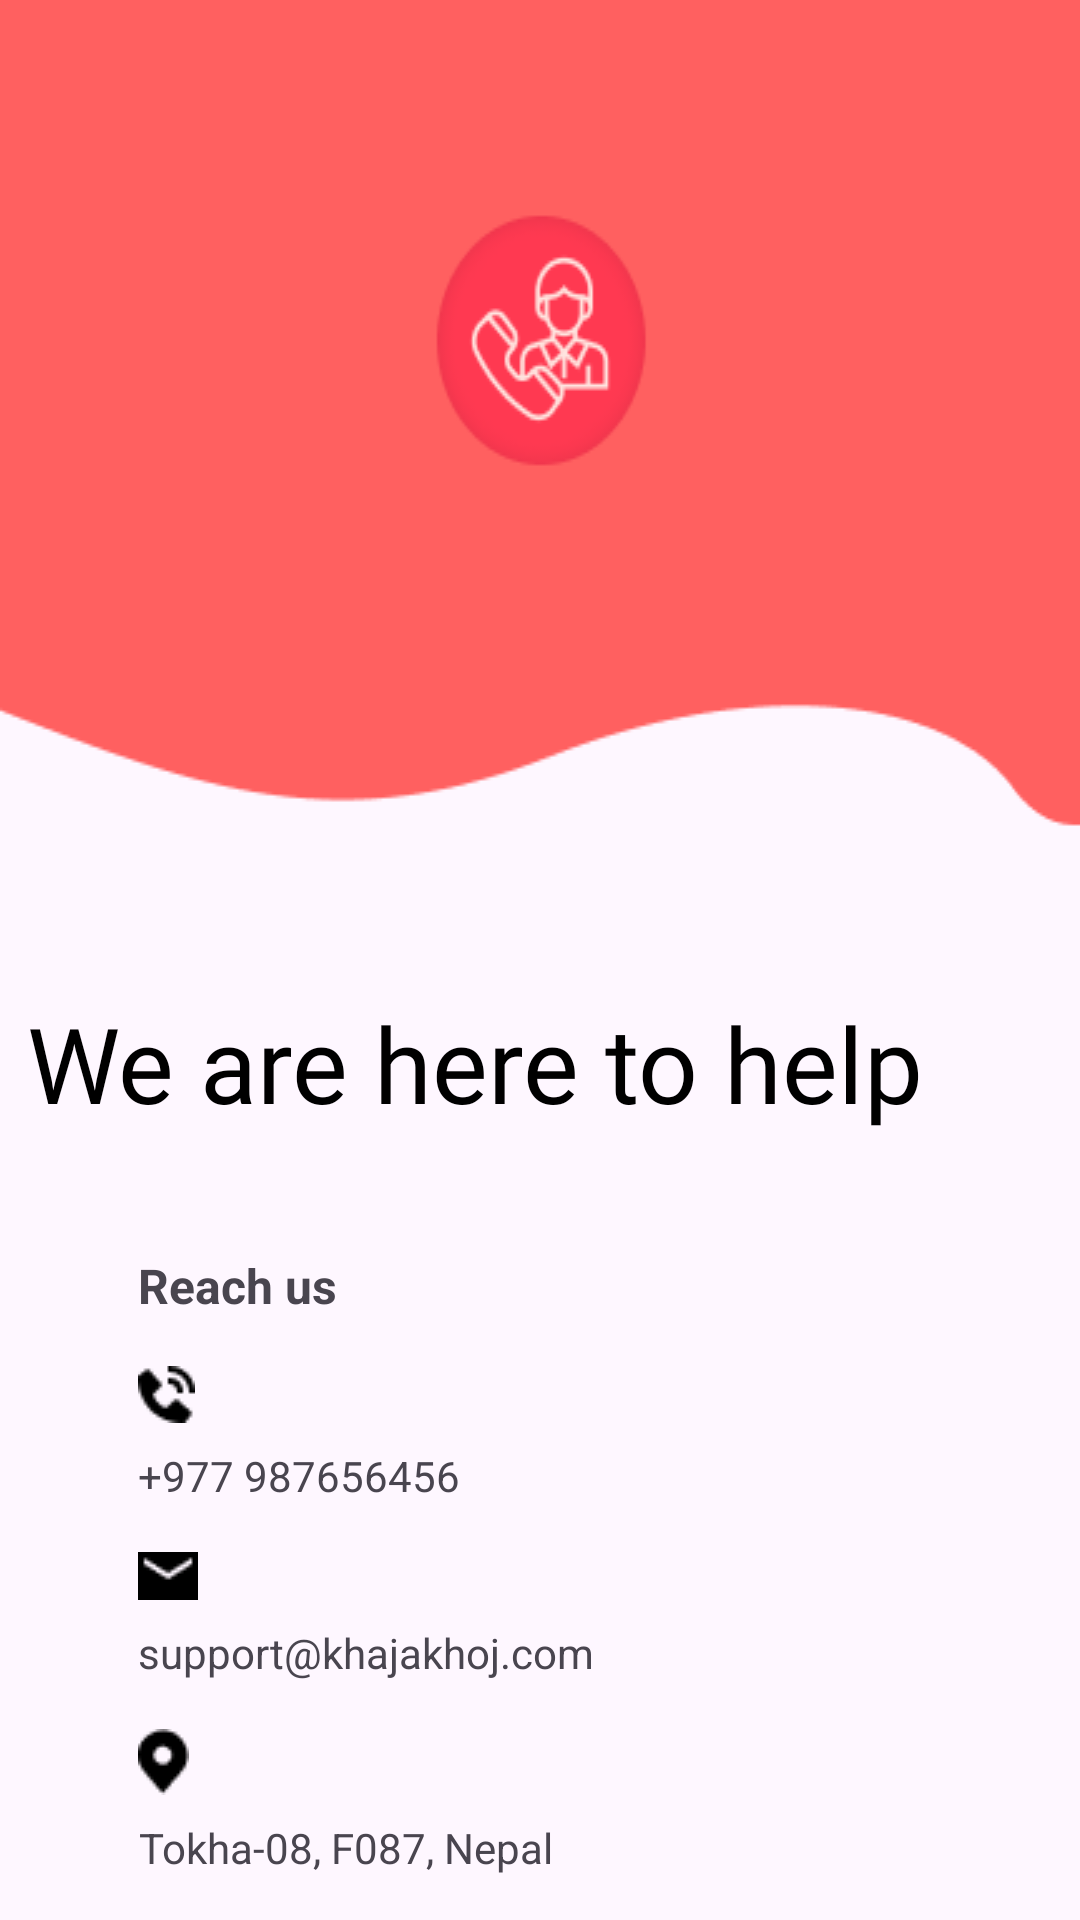

Locate icon controls on the screen. Image size 1080×1920, boxes as (left=x1, top=y1, right=x2, bottom=y2).
email: (left=138, top=1552, right=198, bottom=1600)
location: (left=138, top=1729, right=189, bottom=1795)
phone: (left=138, top=1366, right=195, bottom=1423)
